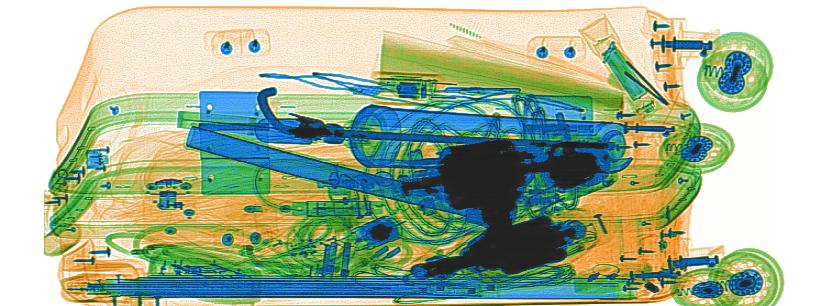battery: (602, 44, 648, 103)
